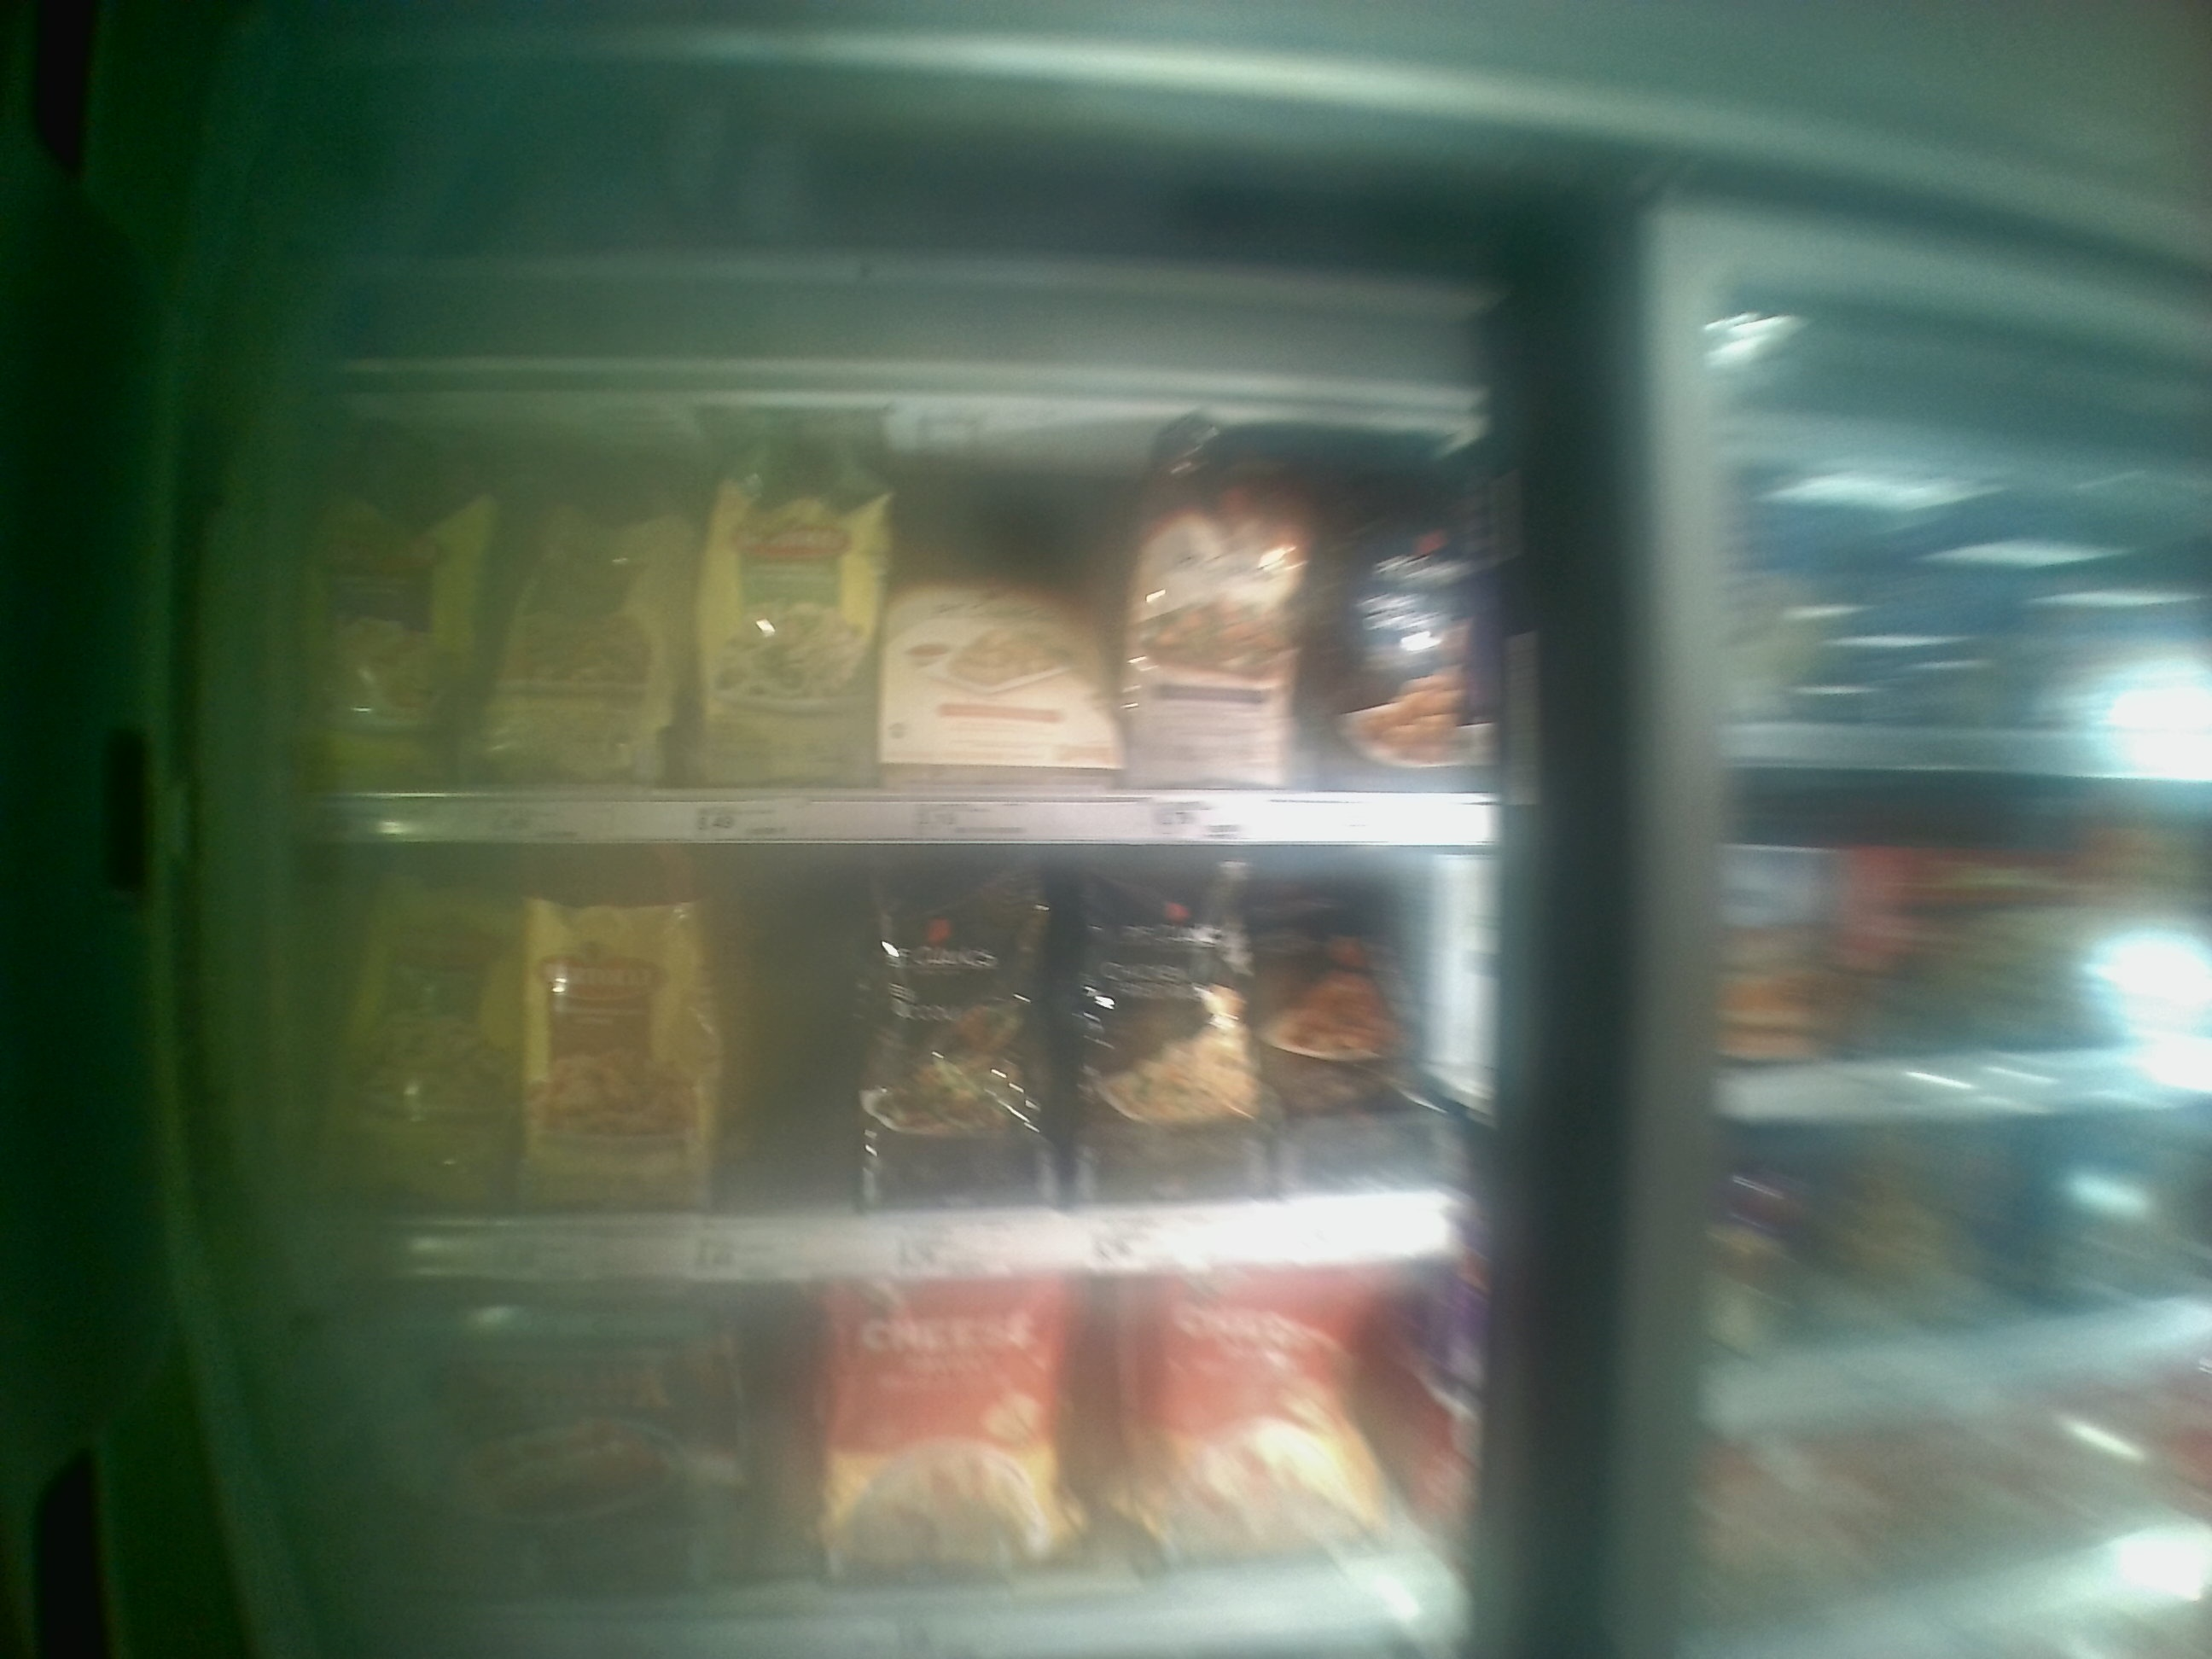frozen-food-shelf: (329, 403, 1491, 842)
